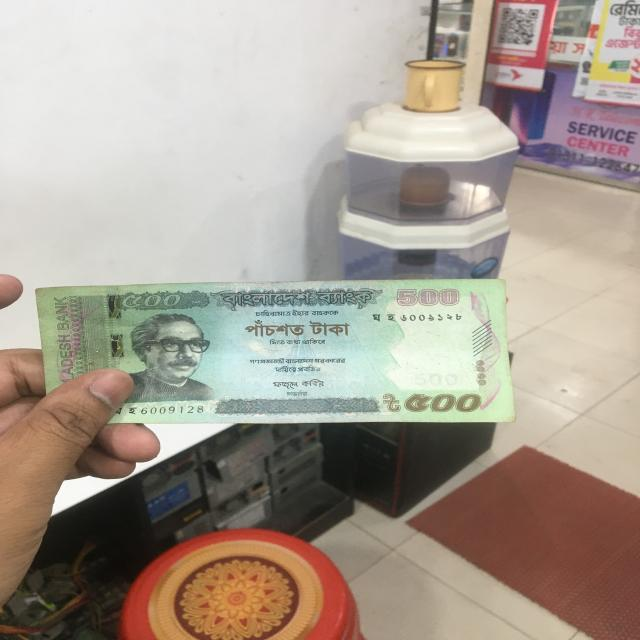Taka: (37, 291, 513, 421)
